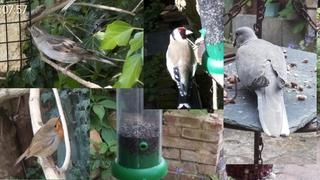collared dove: (233, 27, 290, 138)
goldfinch: (166, 27, 197, 109)
robin: (12, 115, 63, 170)
sparrow: (27, 25, 117, 76)
